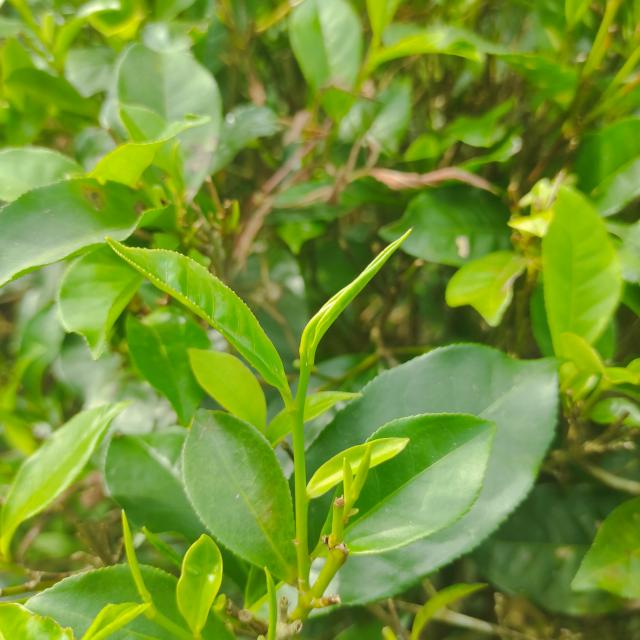unopened_leaf: (295, 220, 424, 390), (111, 503, 156, 608), (138, 519, 191, 568), (257, 560, 284, 640), (348, 440, 380, 504), (338, 454, 358, 516)
